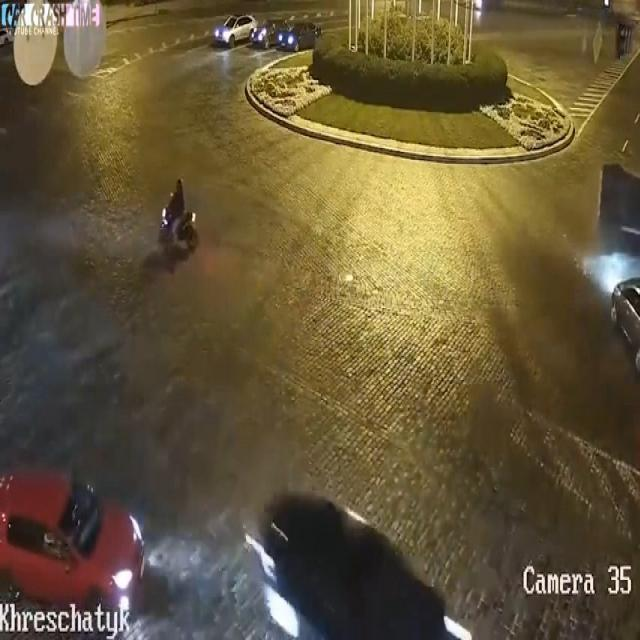Accident: (597, 153, 640, 342)
